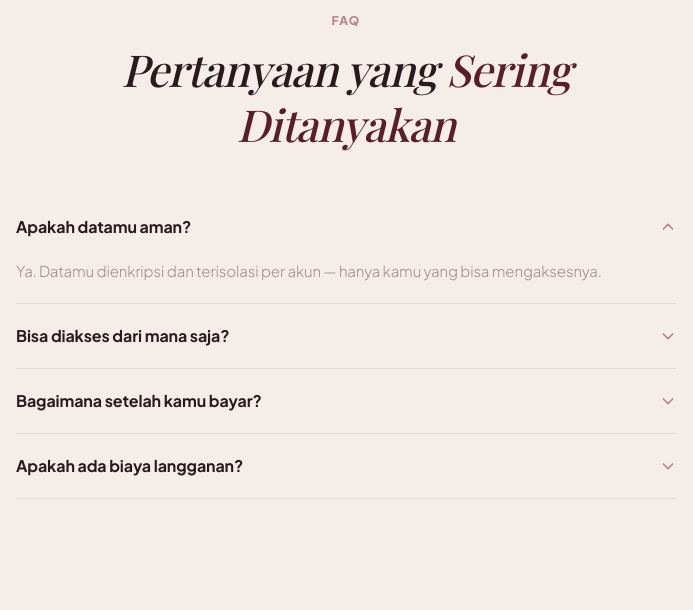
Test case: FAQSection › jawaban "Bagaimana setelah bayar" dimulai dengan Langsung aktif
The width and height of the screenshot is (693, 610).
FAQ index 2 (ketiga) tidak terbuka secara default — perlu diklik
Click the heading "Bagaimana setelah kamu bayar?" at (139, 401), box [16,390,676,411]
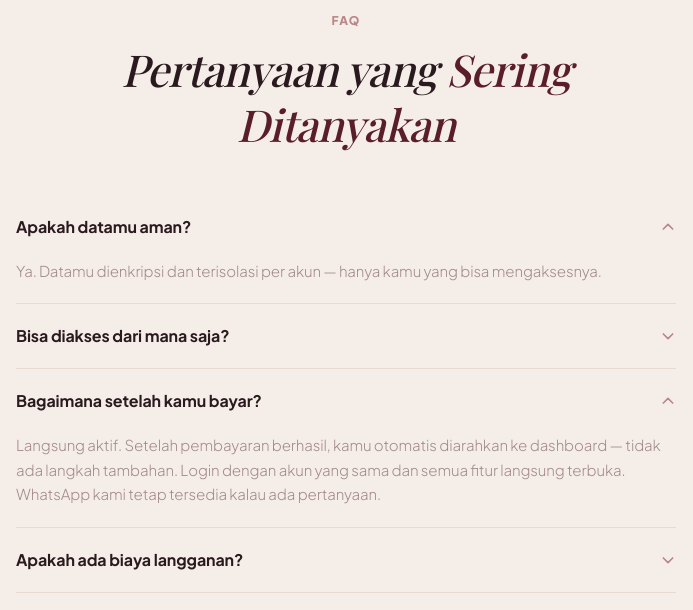
Result: the text "Langsung aktif." is shown at [16,435,661,503]
